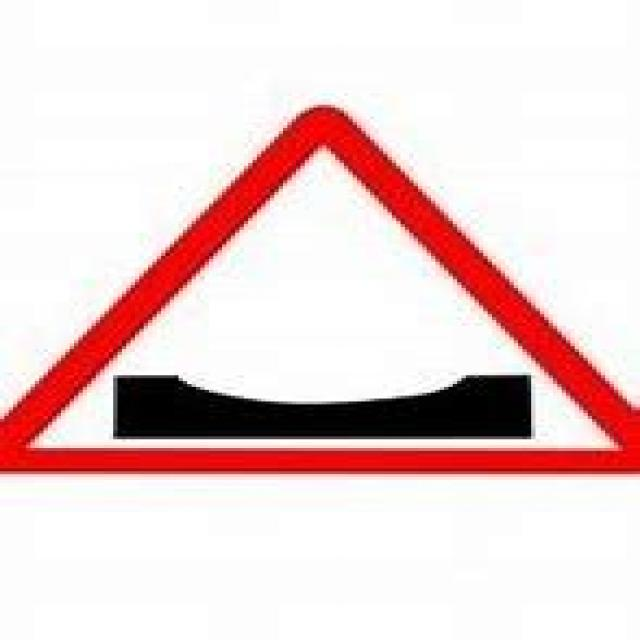DANGEROUS_DIP: (0, 102, 636, 468)
